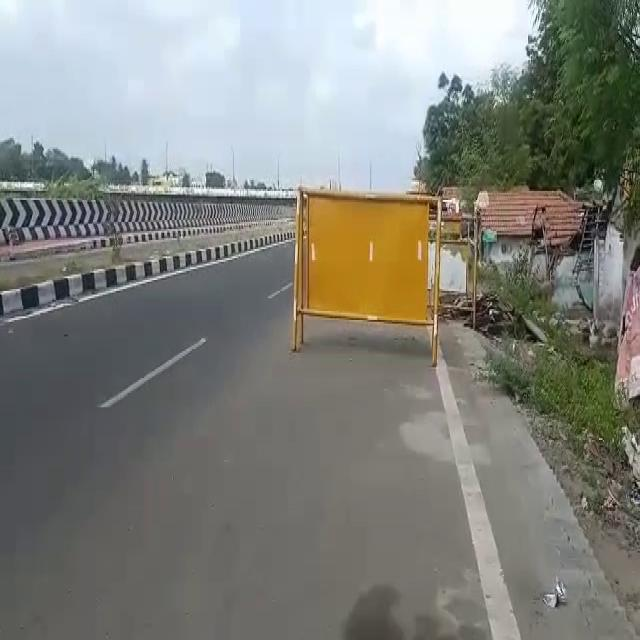fallen_object: (279, 177, 452, 367)
